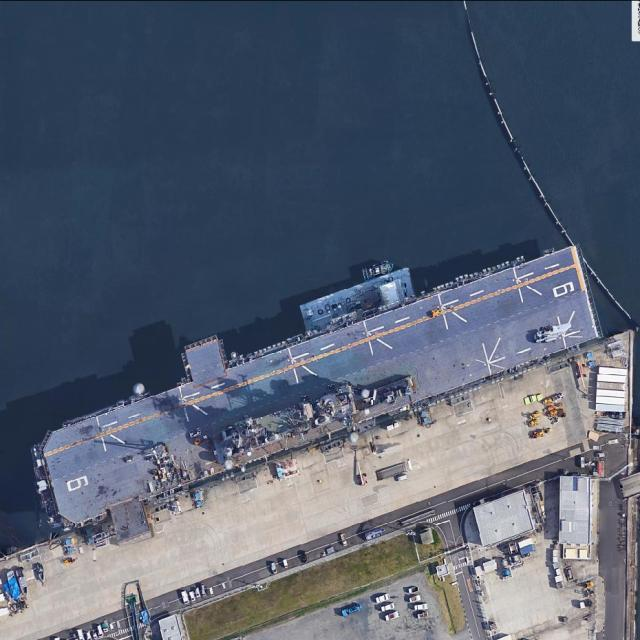Landing: (30, 244, 606, 531)
